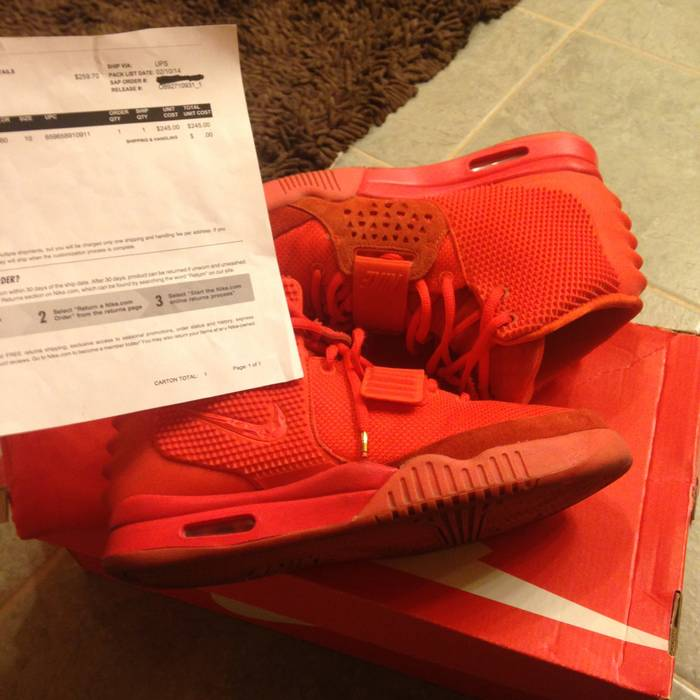Yeezy Red October: (49, 262, 650, 583), (175, 118, 661, 411)
